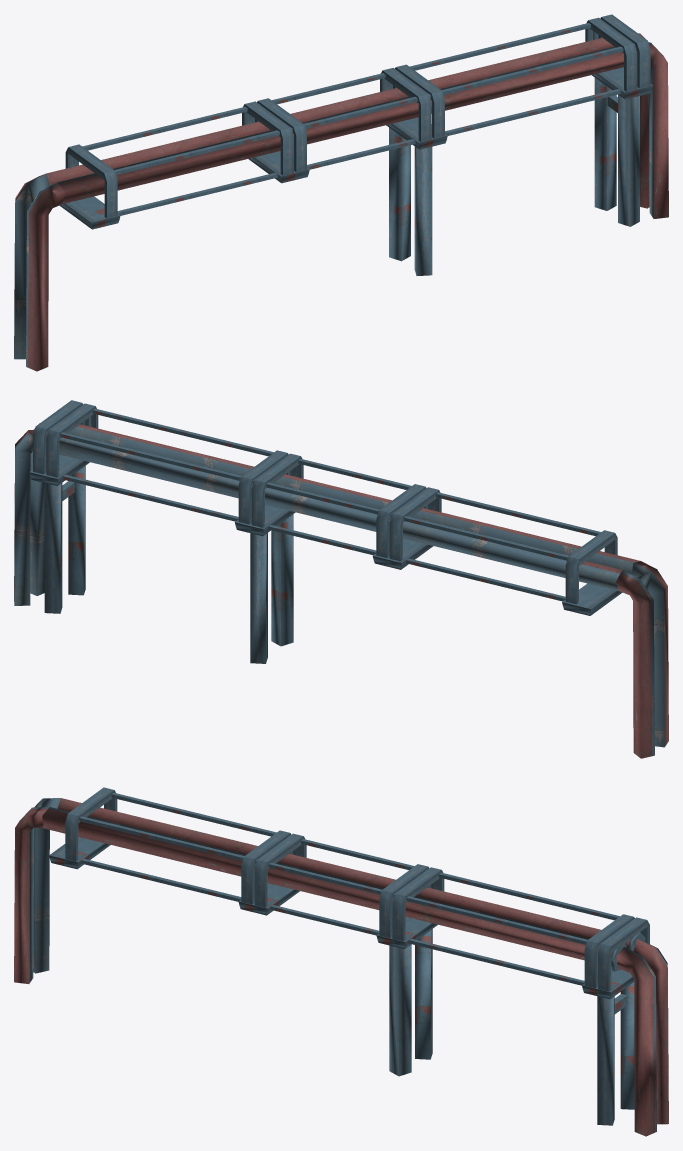
File: Prop_Jz002Gcgd001_lod2.glb
3 renders of one model, top to bottom at view 1: azimuth 30°, elevation 25°; view 2: azimuth 150°, elevation 25°; view 3: azimuth 330°, elevation 25°, orthographic.
Visible parts, largest first — view 1: xiutz_jz002_gcgd001_lod2; view 2: xiutz_jz002_gcgd001_lod2; view 3: xiutz_jz002_gcgd001_lod2.
Boxes of the visible parts, left/top/right/bottom form: xiutz_jz002_gcgd001_lod2: left=14, top=14, right=668, bottom=371; xiutz_jz002_gcgd001_lod2: left=14, top=400, right=668, bottom=758; xiutz_jz002_gcgd001_lod2: left=14, top=787, right=668, bottom=1136.
Size of the model in its own units: 40.5 by 11.38 by 4.68.
Materials: 1 (1 with a texture image).
